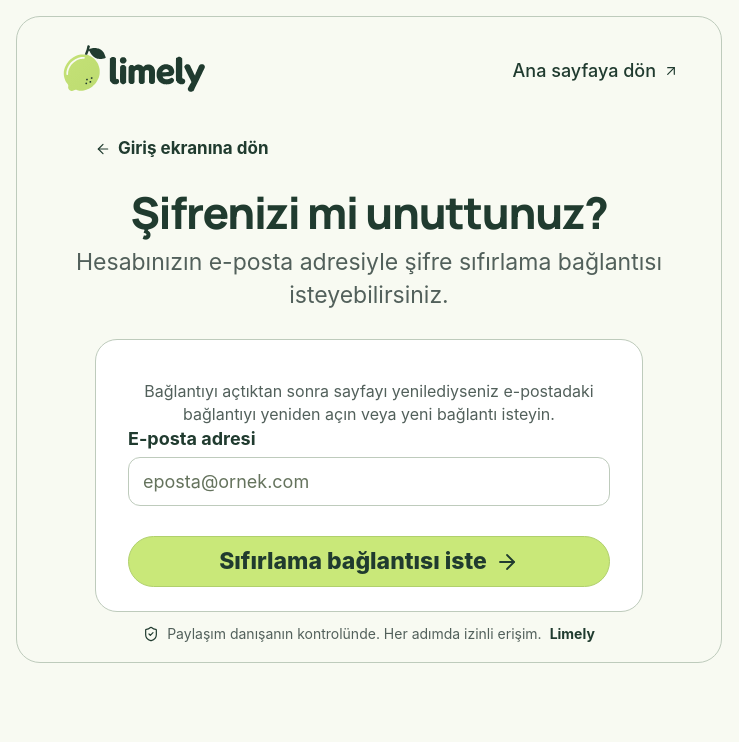
Test: requesting a real reset link › distinguishes request HTTP 400/network errors from accepted email delivery
The width and height of the screenshot is (739, 742).
In the field labelled "E-posta adresi": {"x": 369, "y": 482} x1=128 y1=457 x2=610 y2=506, type "synthetic@example.test"
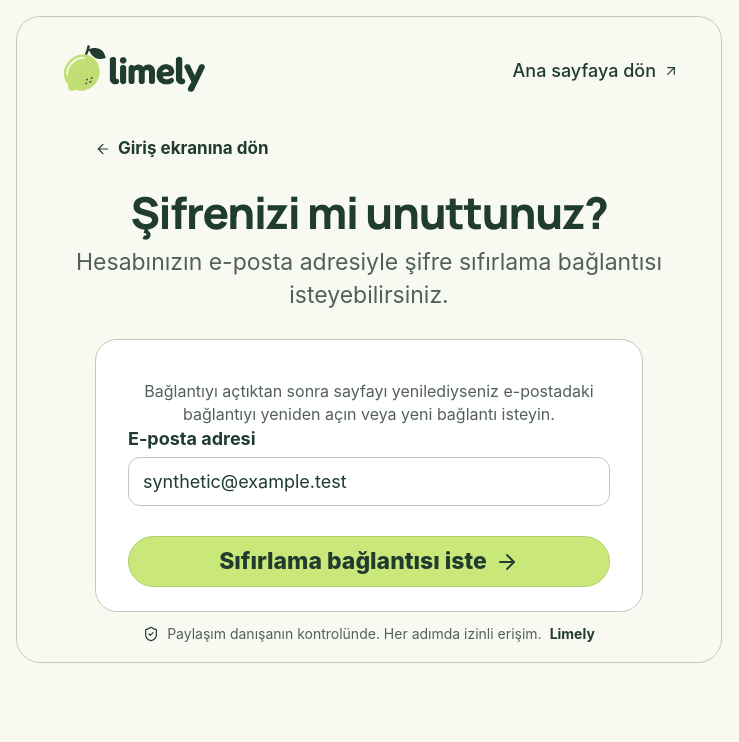
Submit the form, box x1=128 y1=426 x2=610 y2=587
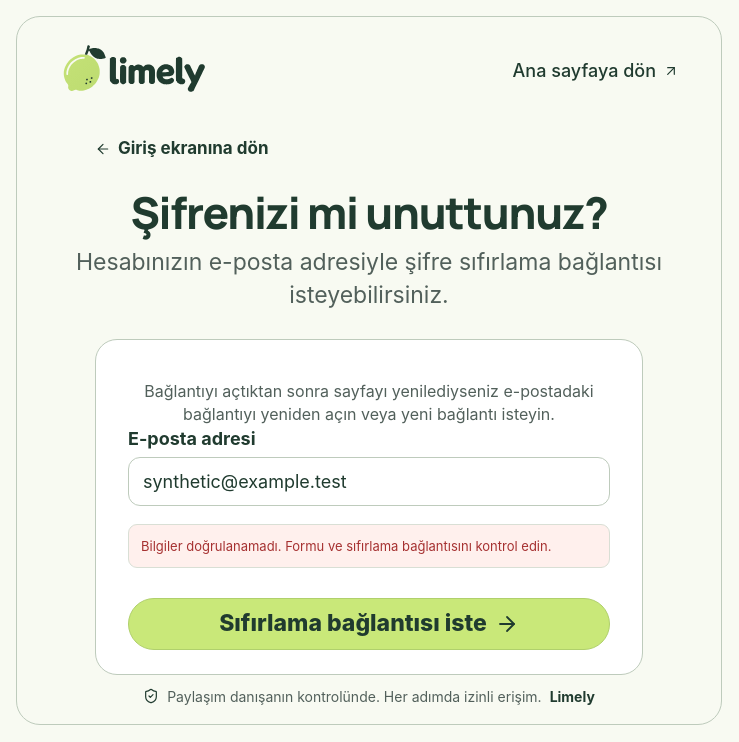
Expected: the message shows "Bilgiler doğrulanamadı", x1=141 y1=538 x2=551 y2=554
